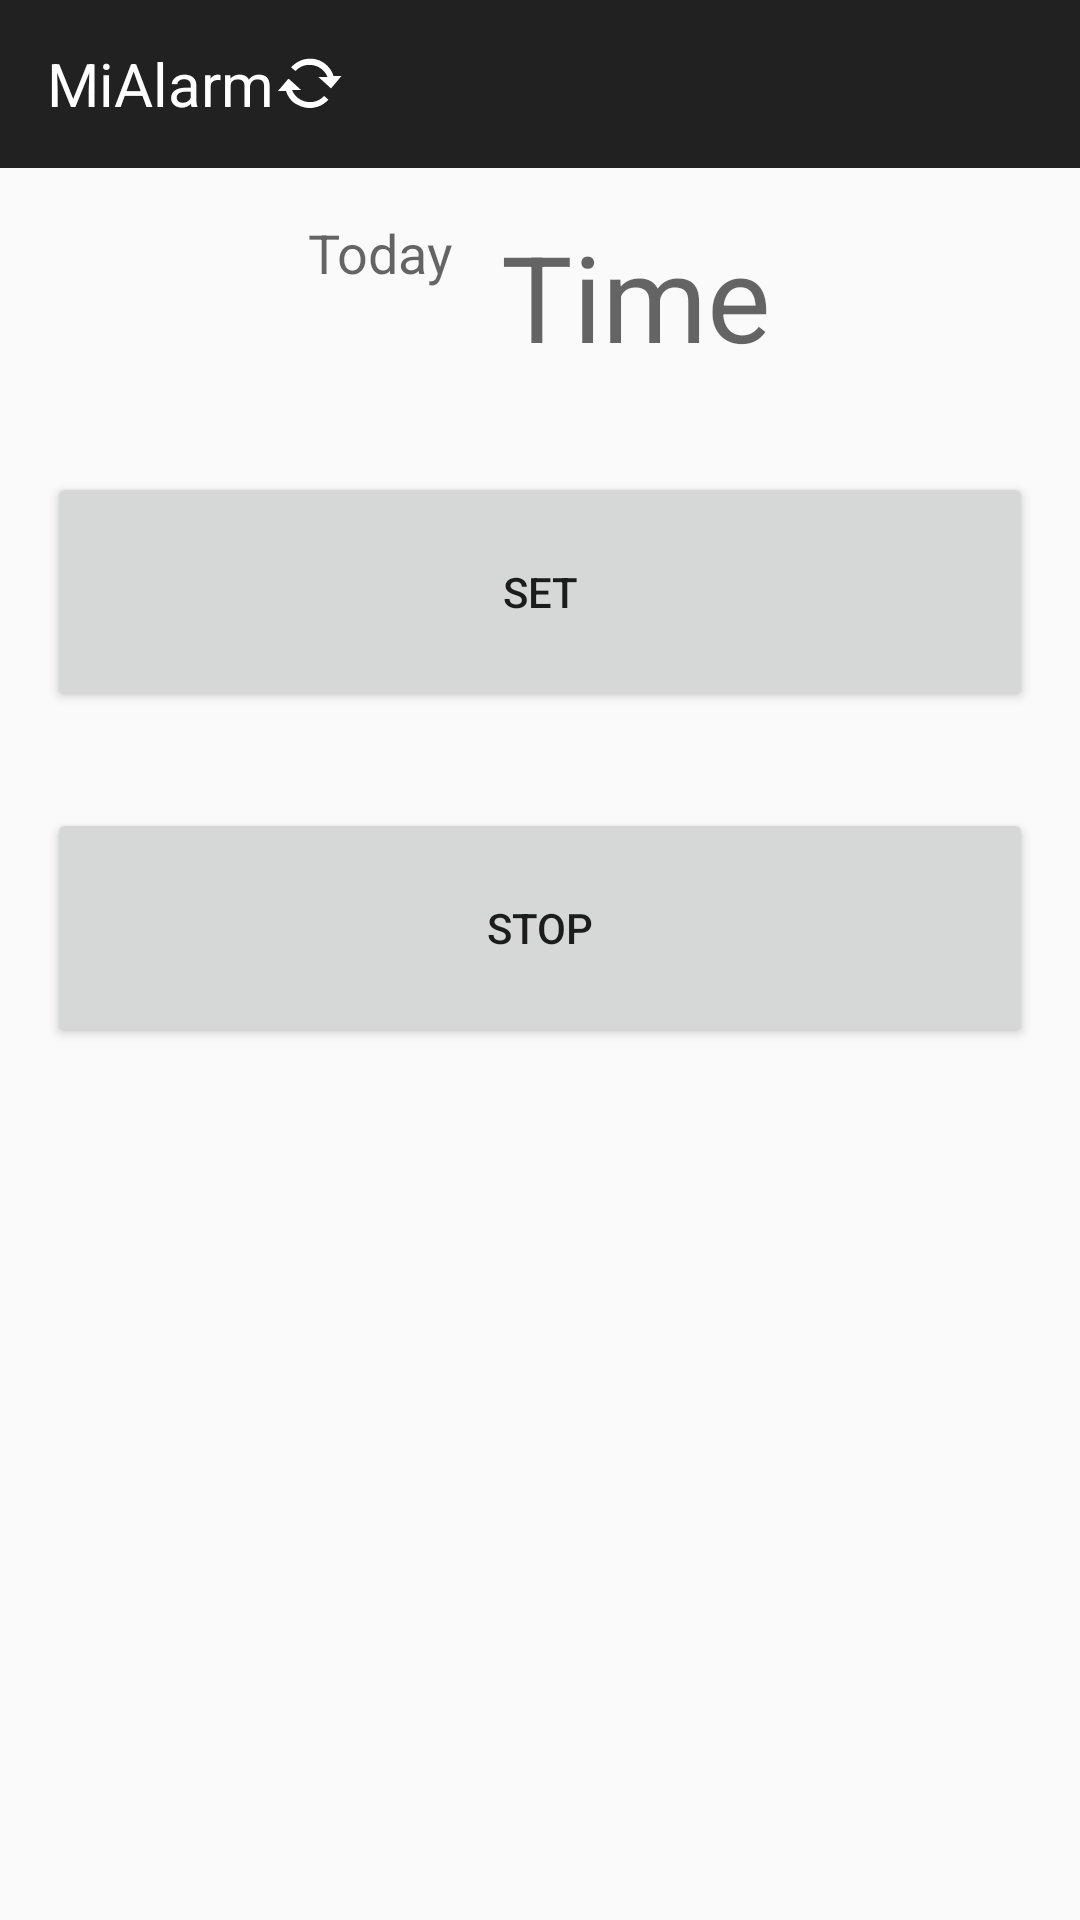

Icons on this 1080 × 1920 Android screen, each with the point to tap as (x=x, y=y):
sync: (x=310, y=83)
